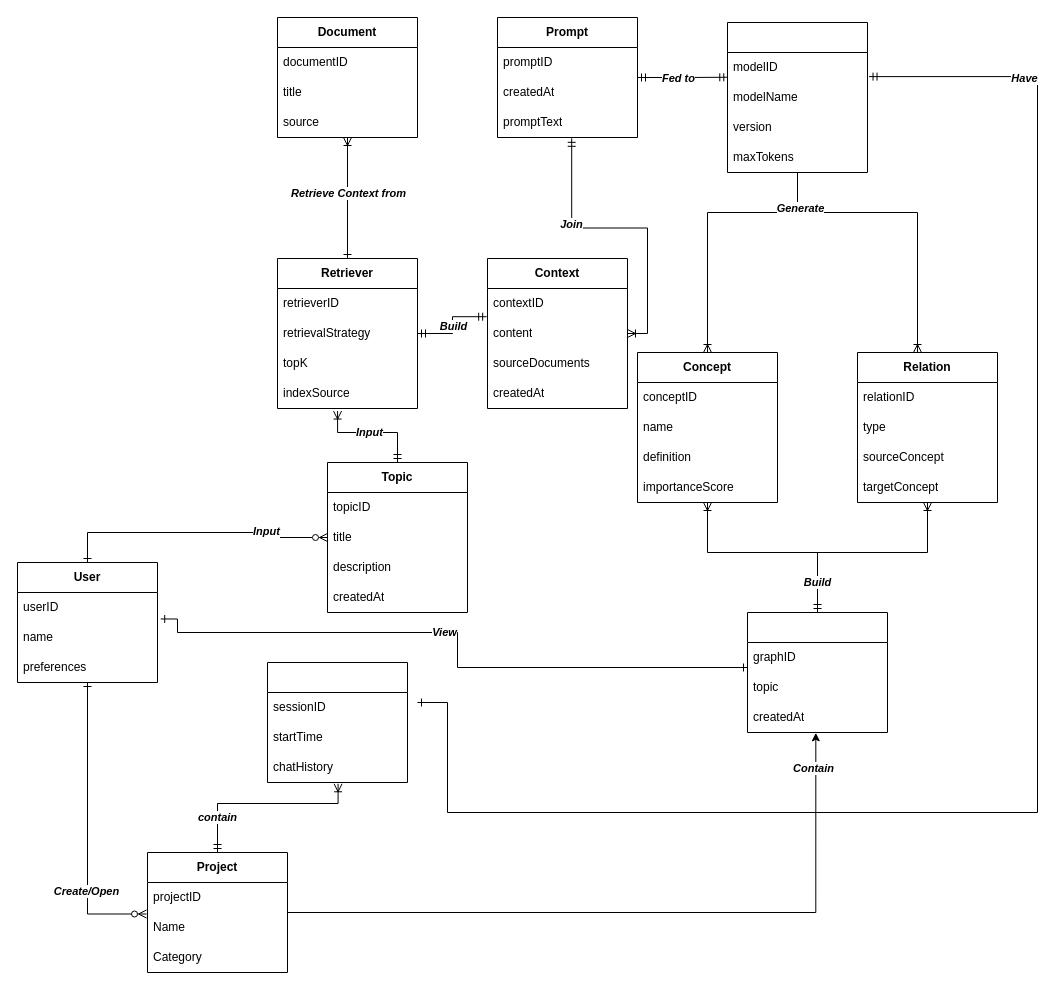
This 1064x990 diagram has some shape labels left out. Each missing label, with the box of its shape:
Chat Session: (266, 662, 408, 782)
Knowledge Graph: (746, 612, 888, 732)
LLM: (726, 22, 868, 172)
